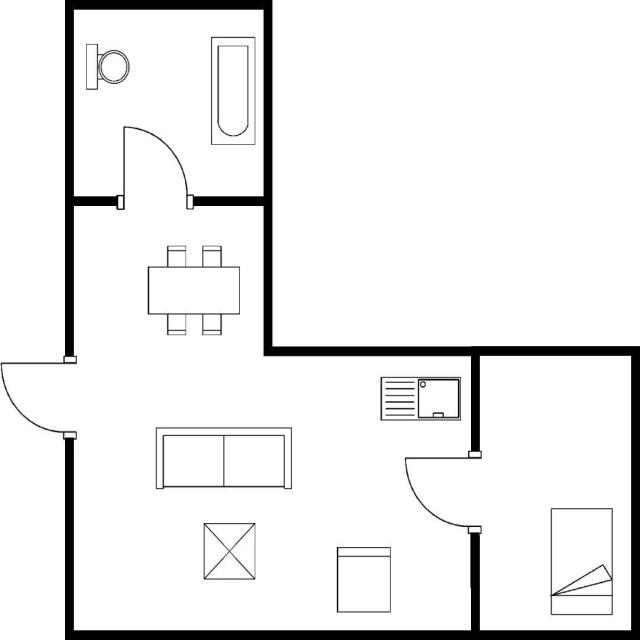bed: (547, 504, 615, 618)
coffee_table: (200, 519, 258, 583)
dining_table: (144, 242, 244, 342)
large_sink: (83, 39, 131, 95)
large_sofa: (152, 424, 294, 492)
sink: (376, 372, 464, 426)
small_sofa: (333, 544, 394, 616)
tub: (207, 32, 259, 150)
